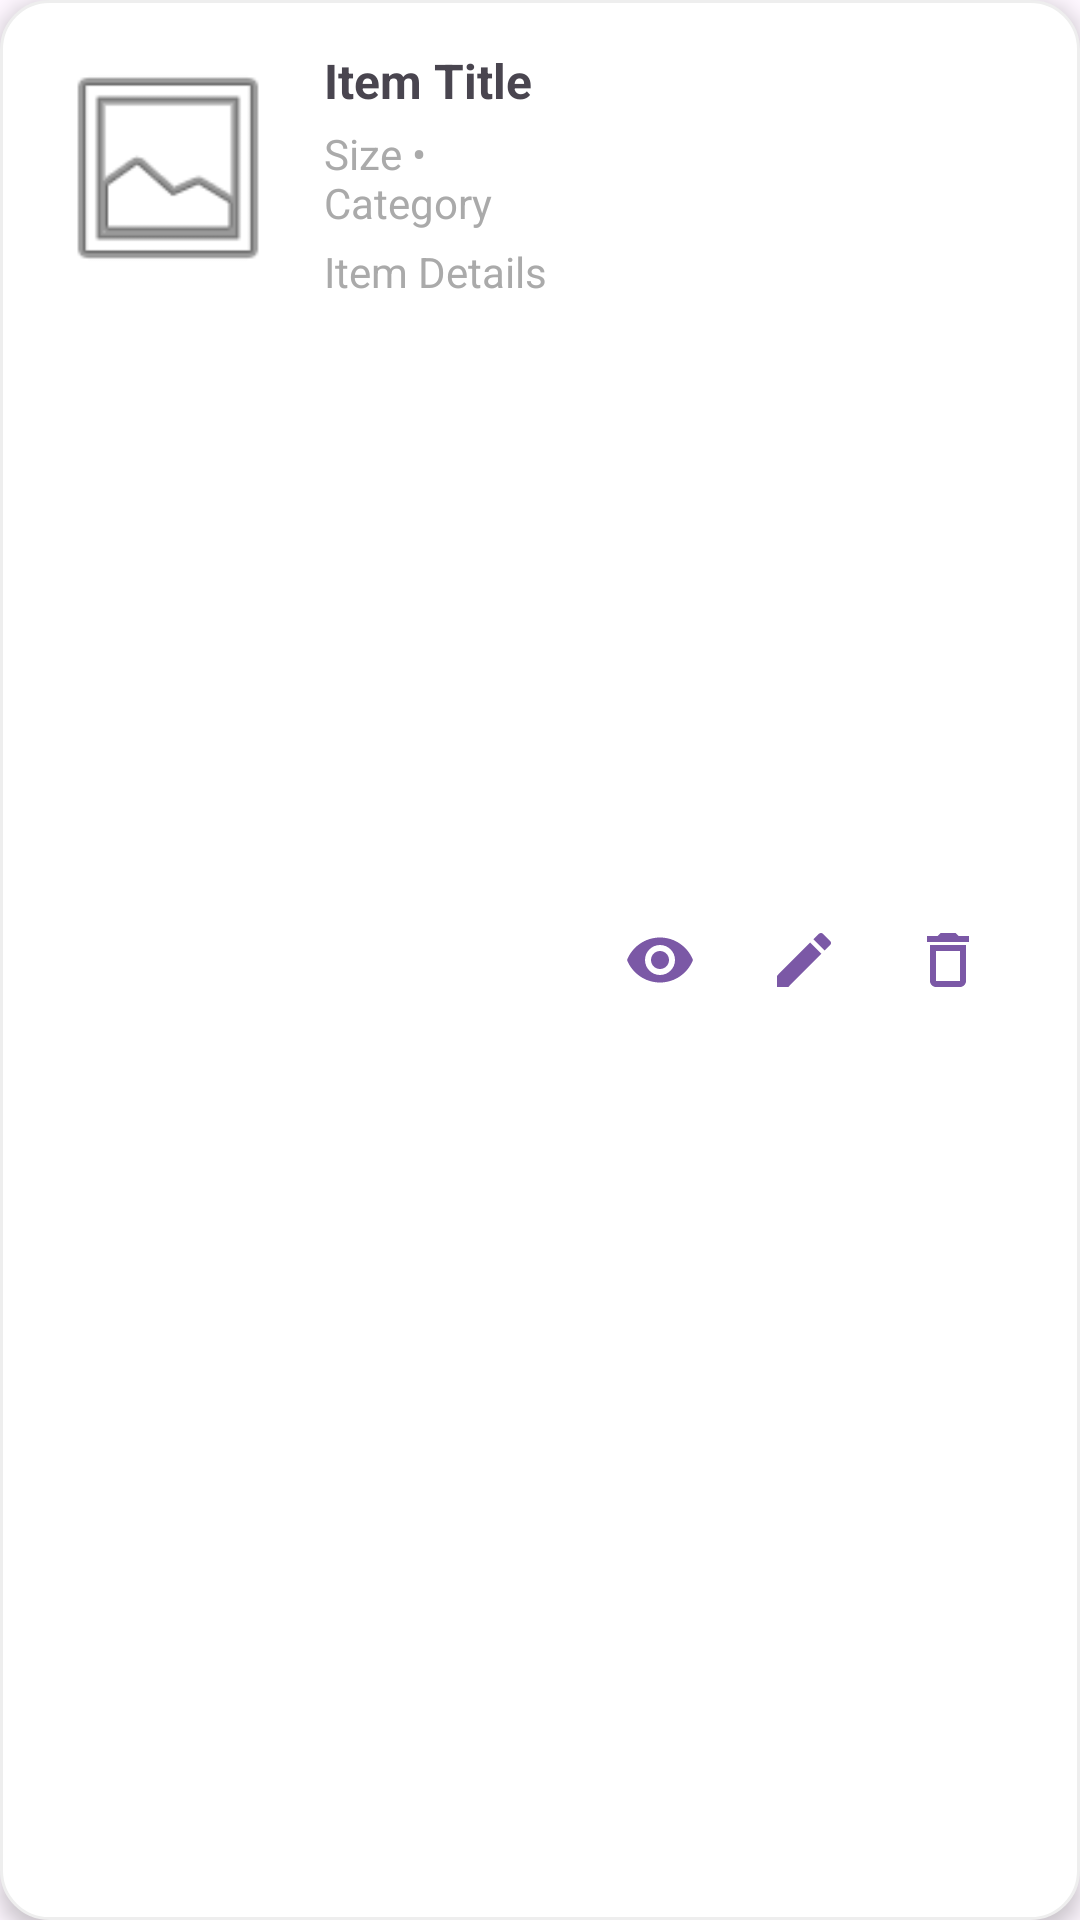

Icons on this 1080*1920 Android screen, each with the point to tap as point (x, y):
Delete item: point (948, 960)
Edit item: point (804, 960)
View details: point (660, 960)
